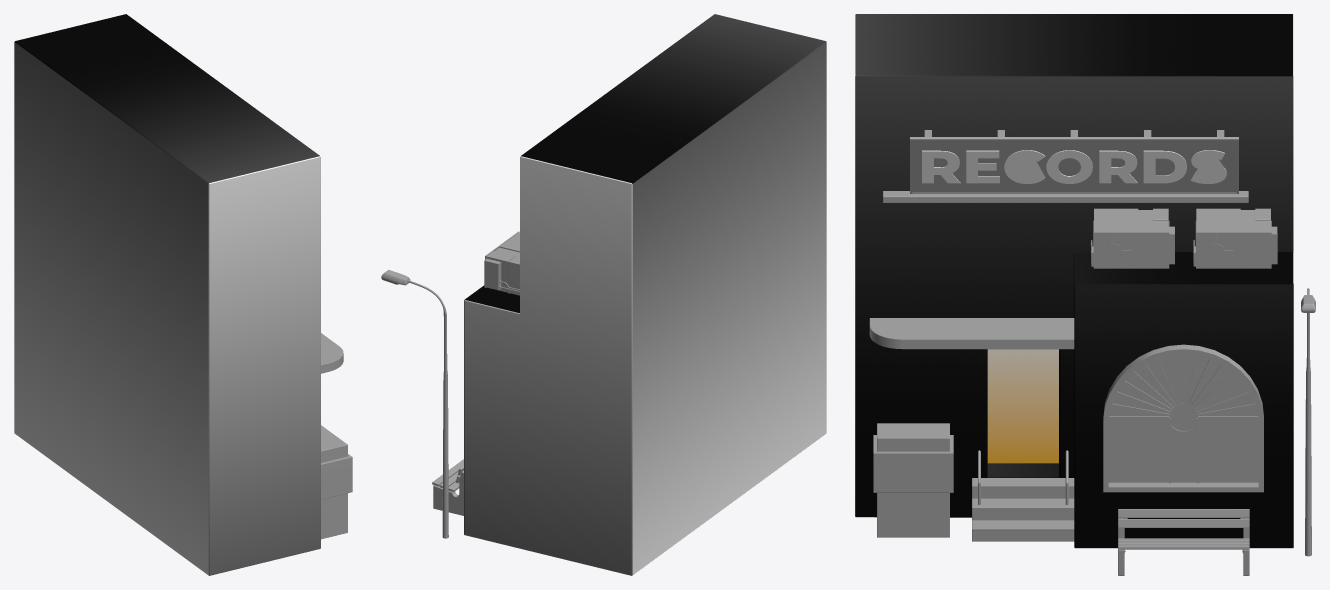
Rendered from city.fbx.
3 renders of one model, left to right at view 1: azimuth 30°, elevation 25°; view 2: azimuth 150°, elevation 25°; view 3: azimuth 270°, elevation 25°, orthographic. The views are drawn at different scales.
Visible parts, largest first — view 1: recordShop_base, cubeSign_base, emission_cubeSign_monitor, recordShop_ceil; view 2: recordShop_base, ACunit1, light_streetlight, bench1; view 3: recordShop_base, recordShop_window, sign_panel_records, text_records, recordShop_ceil, recordShop_stair, cubeSign_base, ACunit1, ACunit2, bench1, emission_cubeSign_monitor, panel_base (+1 smaller).
Part boxes in pixels (x1,y1,x2,y2): recordShop_base: (14,14,320,575); cubeSign_base: (321,425,347,539); emission_cubeSign_monitor: (321,454,352,499); recordShop_ceil: (321,333,343,373); recordShop_base: (464,14,826,575); ACunit1: (484,231,519,295); light_streetlight: (381,270,448,538); bench1: (432,459,463,515); recordShop_base: (855,14,1293,548); recordShop_window: (1103,344,1263,492); sign_panel_records: (910,137,1238,193); text_records: (922,150,1226,183); recordShop_ceil: (869,318,1074,349); recordShop_stair: (972,478,1074,541); cubeSign_base: (877,423,949,537); ACunit1: (1193,208,1277,268); ACunit2: (1090,208,1174,268); bench1: (1118,509,1249,575); emission_cubeSign_monitor: (873,435,953,492); panel_base: (883,191,1248,202).
Size of what is drawn, in the model's own units: 4.3 by 6.67 by 6.3.
